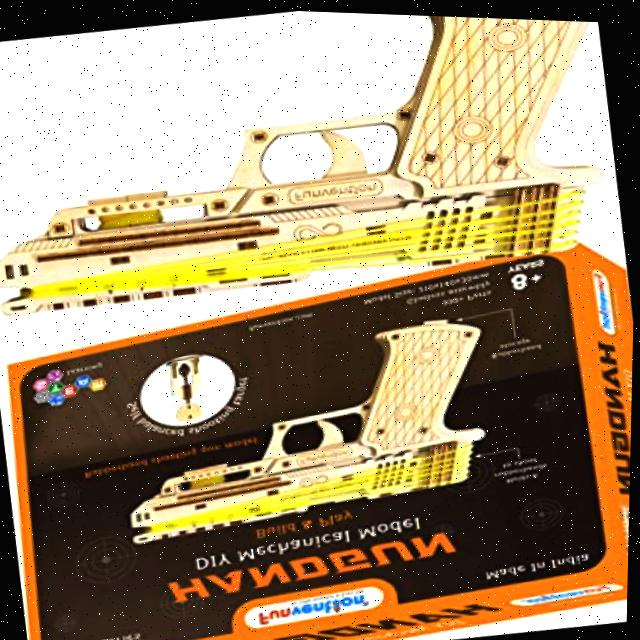pistol: (0, 0, 631, 341), (111, 305, 510, 560)
